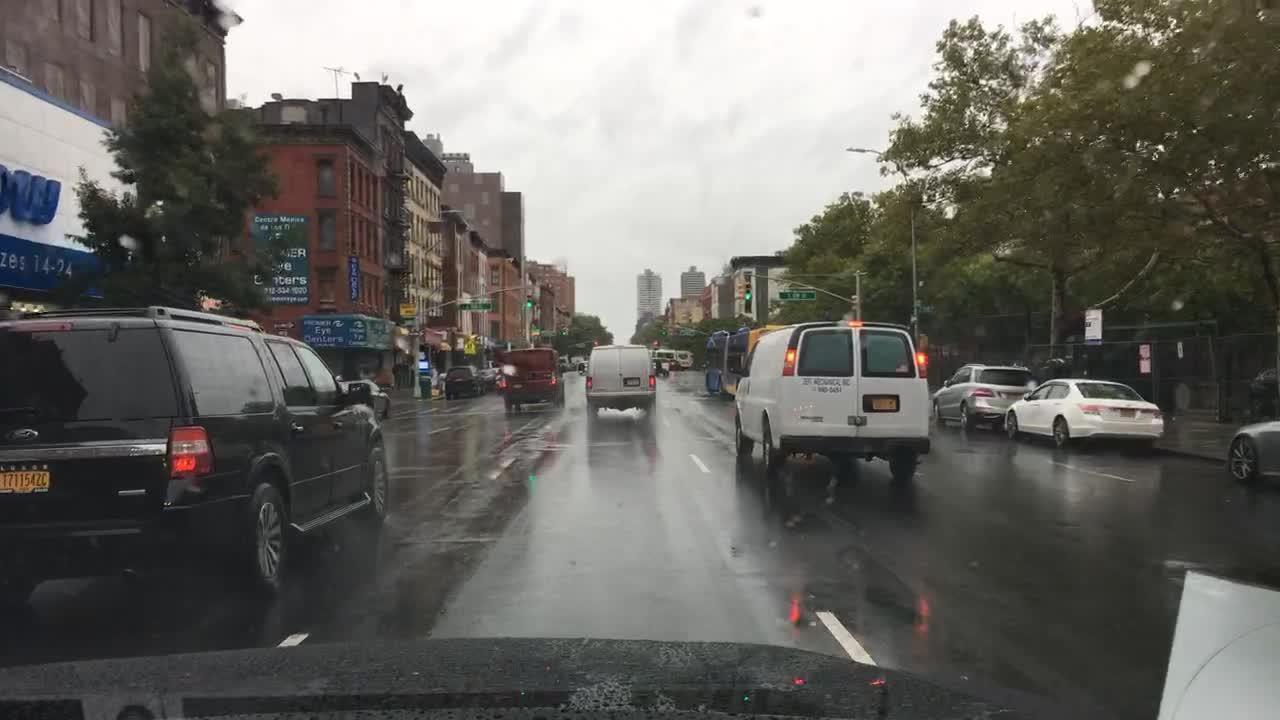ford: (0, 424, 46, 448)
